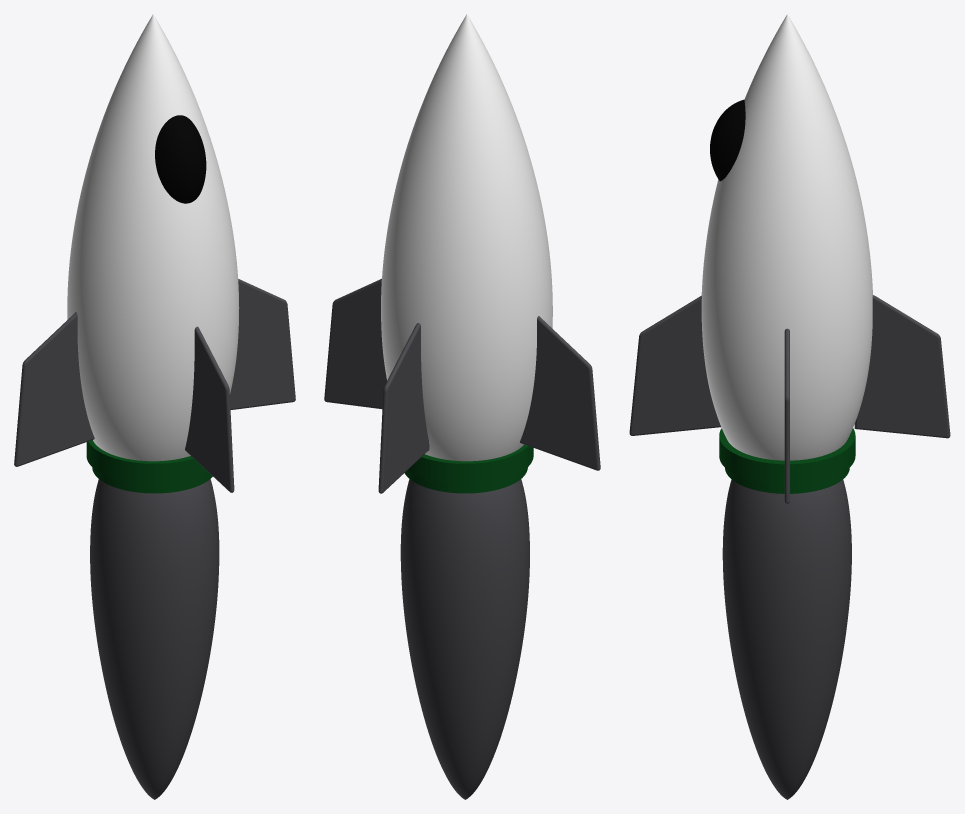
The model's file is Rocket_3d.glb.
3 views of the same model, side by side, from view 1: azimuth 30°, elevation 25°; view 2: azimuth 150°, elevation 25°; view 3: azimuth 270°, elevation 25° (orthographic).
Parts seen in each view (by area): view 1: Body, Lathe 2, object 9, object 7, object 8, Cockpit, Cylinder, Cylinder 2; view 2: Body, Lathe 2, object 9, object 7, object 10, Cylinder, Cylinder 2; view 3: Body, Lathe 2, object 10, object 8, Cylinder, Cockpit, Cylinder 2, object 7.
Boxes of the visible parts, x1,y1,x2,y2 form: Body: (67,14,239,461); Lathe 2: (90,479,219,799); object 9: (14,312,94,466); object 7: (230,279,295,409); object 8: (185,326,234,492); Cockpit: (155,115,206,203); Cylinder: (86,440,208,484); Cylinder 2: (92,467,212,493); Body: (381,14,552,461); Lathe 2: (400,479,529,799); object 9: (520,316,600,470); object 7: (324,278,386,408); object 10: (378,323,429,493); Cylinder: (407,444,533,484); Cylinder 2: (404,467,527,493); Body: (701,14,872,460); Lathe 2: (722,479,851,799); object 10: (854,295,950,438); object 8: (629,295,720,435); Cylinder: (719,428,855,484); Cockpit: (710,99,745,181); Cylinder 2: (725,468,849,493); object 7: (784,328,789,503).
Size of the model in its own units: 1.84 by 4.96 by 1.84.
